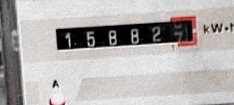1: (62, 30, 73, 48)
2: (150, 24, 162, 43)
5: (84, 30, 96, 47)
7: (172, 30, 184, 42)
8: (105, 28, 118, 45), (128, 26, 140, 44)
screen: (47, 12, 203, 59)
